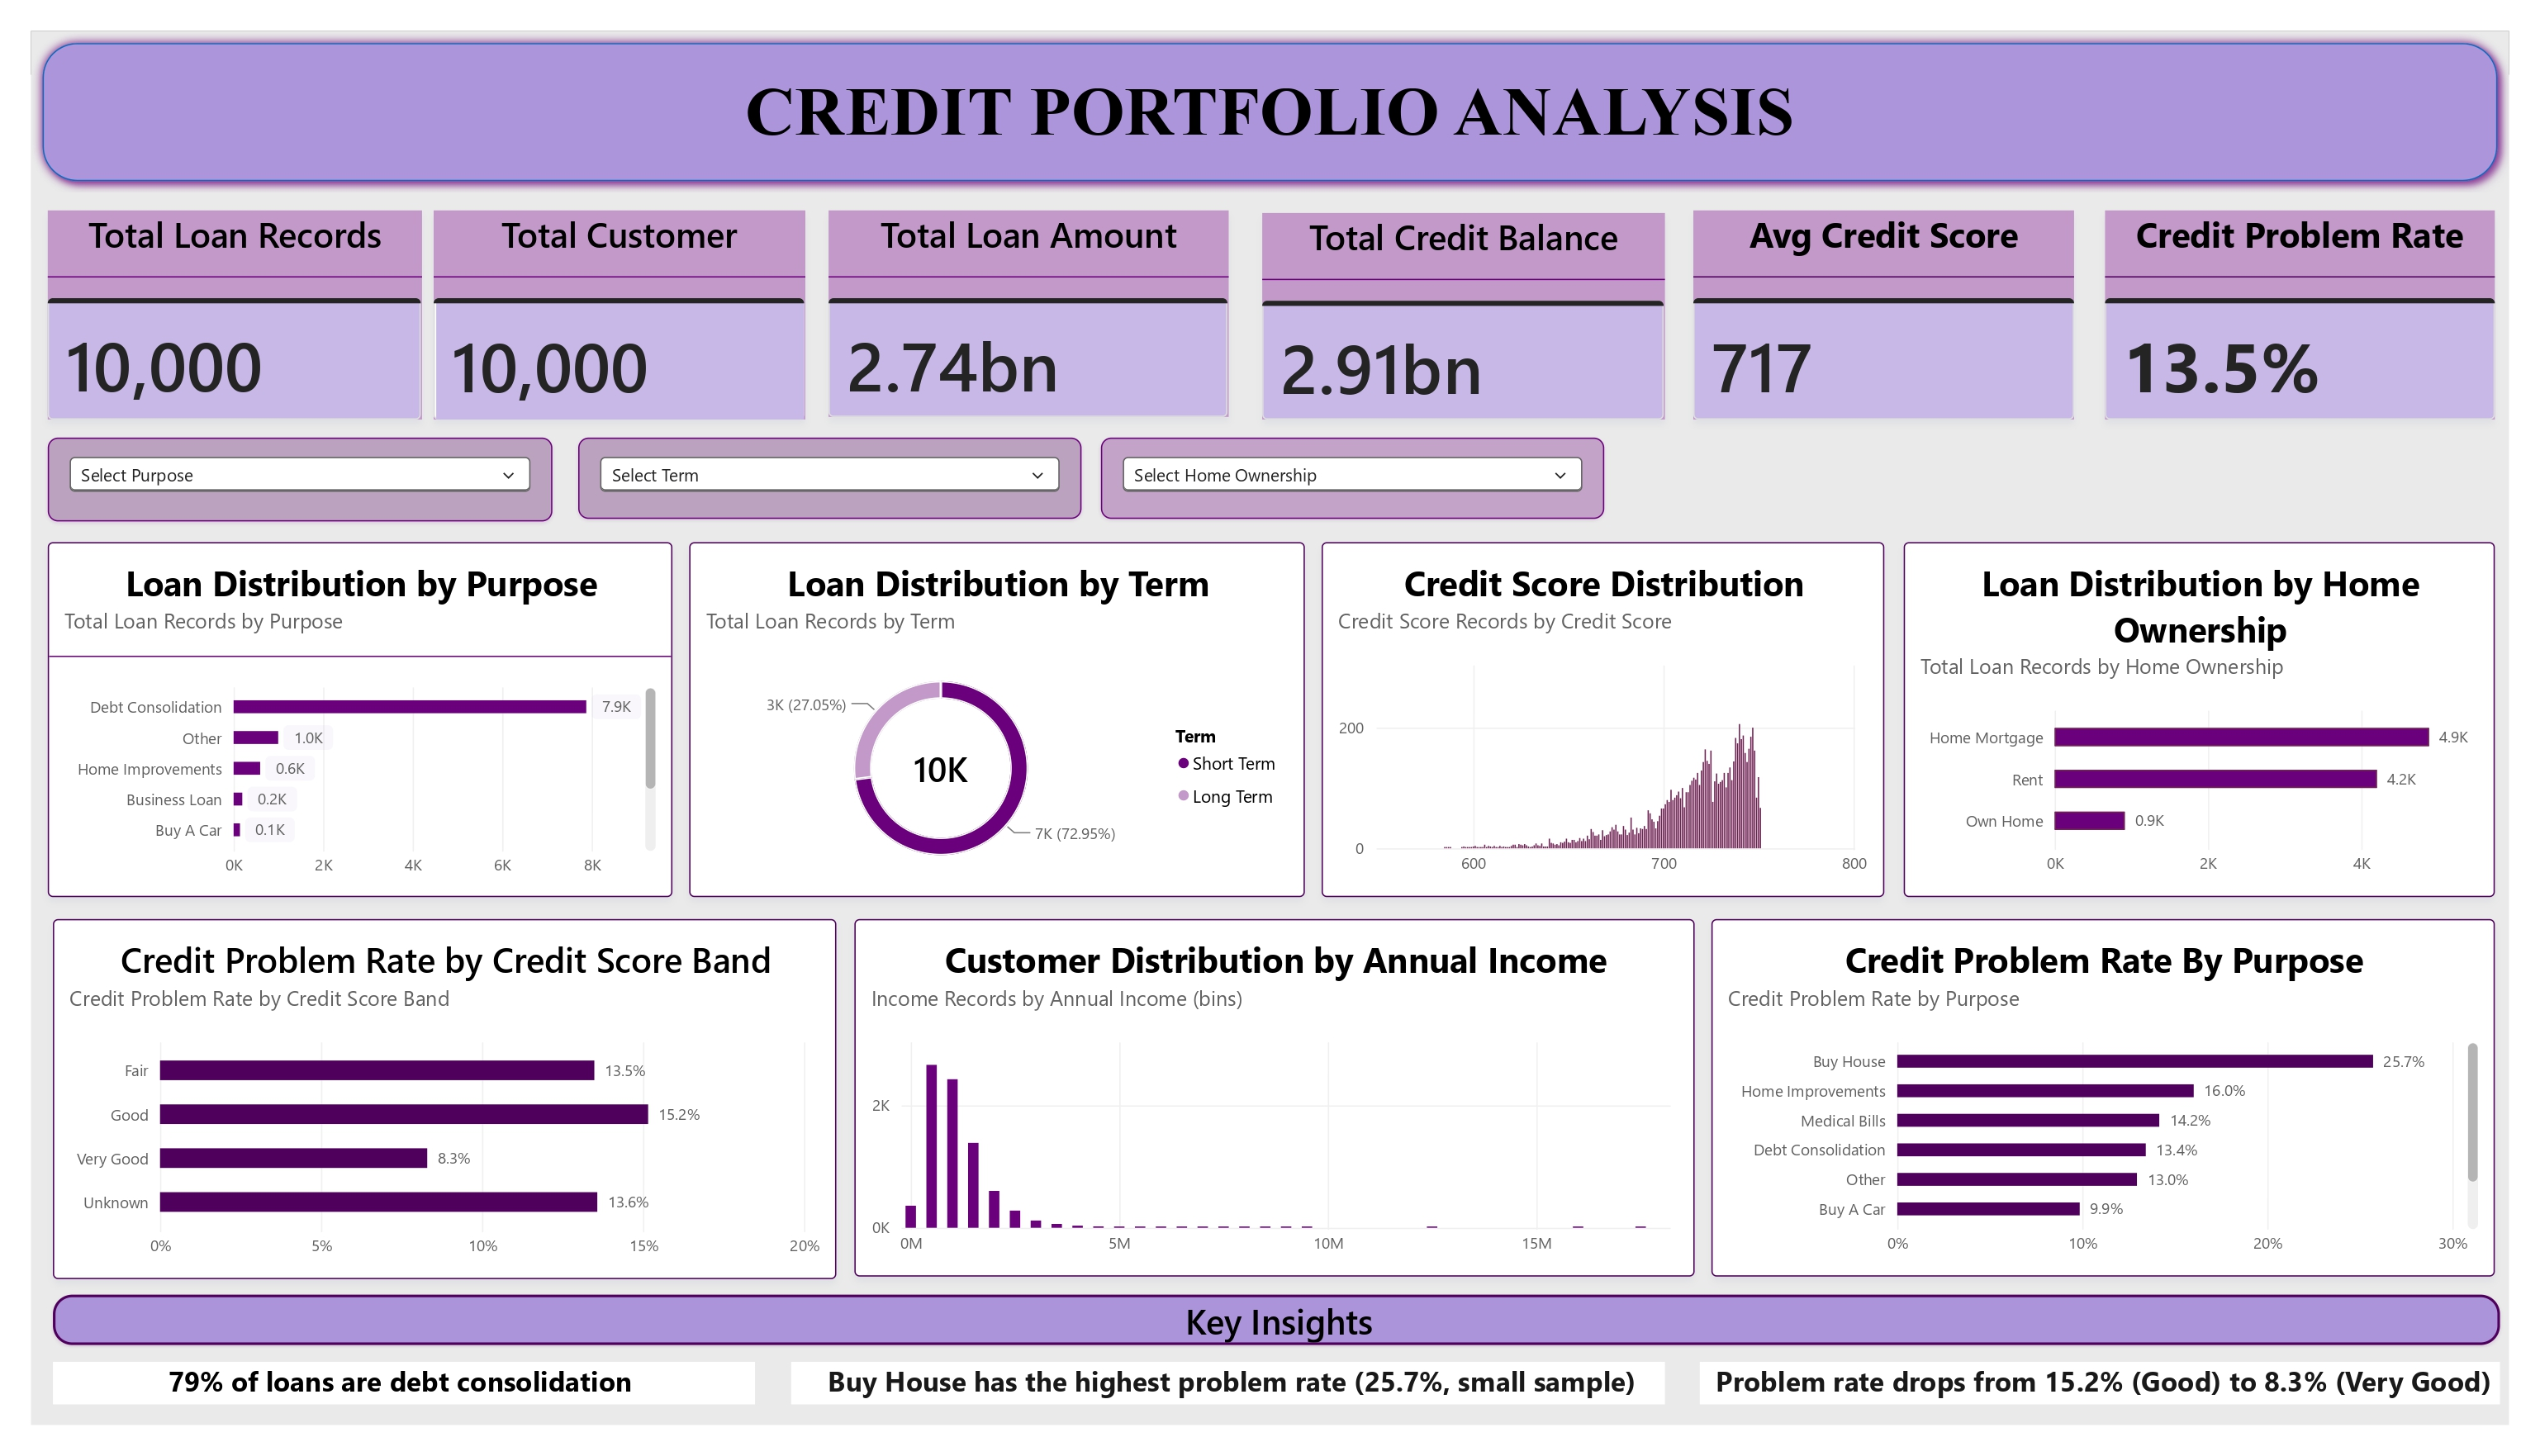

What the dashboard file says about the page in this screenshot:
{"tool":"powerbi","page":{"name":"Page 1","canvas":[1920,1080],"ordinal":0},"visuals":[{"type":"shape","box":[0,0,1920.5,124.7],"z":3000},{"type":"cardVisual","title":"Total Loan Records","fields":{"Data":["credit_test.Total Loan Records Display"]},"box":[12.8,139.4,289.8,161.4],"z":4000},{"type":"cardVisual","title":"Total Customer","fields":{"Data":["credit_test.Total Customers Display"]},"box":[311.8,139.4,288,161.4],"z":5000},{"type":"cardVisual","title":"Total Loan Amount","fields":{"Data":["credit_test.Total Loan Amount"]},"box":[618.1,139.4,310,159.6],"z":6000},{"type":"cardVisual","title":"Total Credit Balance","fields":{"Data":["credit_test.Total Credit Balance"]},"box":[953.8,141.2,311.8,159.6],"z":7000},{"type":"clusteredBarChart","title":"Loan Distribution by Purpose","fields":{"Category":["credit_test.Purpose"],"Y":["credit_test.Total Loan Records"]},"box":[12.8,396.2,484.2,275.1],"z":8000},{"type":"donutChart","title":"Loan Distribution by Term","fields":{"Category":["credit_test.Term"],"Y":["credit_test.Total Loan Records"]},"box":[509.9,396.2,476.9,275.1],"z":9000},{"type":"clusteredColumnChart","title":"Credit Score Distribution","fields":{"Category":["credit_test.Credit Score"],"Y":["credit_test.Credit Score Records"]},"box":[999.7,396.2,436.6,275.1],"z":10000},{"type":"clusteredBarChart","title":"Loan Distribution by Home Ownership","fields":{"Category":["credit_test.Home Ownership"],"Y":["credit_test.Total Loan Records"]},"box":[1450.9,396.2,458.6,275.1],"z":11000},{"type":"clusteredColumnChart","title":"Customer Distribution by Annual Income","fields":{"Category":["credit_test.Annual Income (bins)"],"Y":["credit_test.Income Records"]},"box":[638.3,687.8,651.2,277],"z":12000},{"type":"listSlicer","title":"Loan Term Filter","fields":{"Values":["credit_test.Term"]},"box":[423.7,315.5,390.7,62.4],"z":13000},{"type":"listSlicer","title":"Home Ownership Filter","fields":{"Values":["credit_test.Home Ownership"]},"box":[829.1,315.5,390,62.4],"z":14000},{"type":"listSlicer","title":"Loan Purpose Filter","fields":{"Values":["credit_test.Purpose"]},"box":[12.8,315.5,390.7,64.2],"z":15000},{"type":"clusteredBarChart","title":"Credit Problem Rate By Purpose","fields":{"Category":["credit_test.Purpose"],"Y":["credit_test.Credit Problem Rate"]},"box":[1302.3,687.8,607.1,277],"z":15003},{"type":"clusteredBarChart","title":"Credit Problem Rate by Credit Score Band","fields":{"Category":["credit_test.Credit Score Band"],"Y":["credit_test.Credit Problem Rate"]},"box":[16.5,687.8,607.1,278.8],"z":15004},{"type":"cardVisual","title":"Avg Credit Score","fields":{"Data":["credit_test.Avg Credit Score"]},"box":[1287.6,139.4,295.3,161.4],"z":15005},{"type":"cardVisual","title":"Credit Problem Rate","fields":{"Data":["credit_test.Credit Problem Rate"]},"box":[1606.8,139.4,302.7,161.4],"z":15006},{"type":"textbox","title":"Key Insights","box":[16.5,979.5,1896.6,38.5],"z":15007},{"type":"textbox","box":[100,100,300,300],"z":15008},{"type":"textbox","box":[16.5,1030.8,544.8,33],"z":15009},{"type":"textbox","box":[588.8,1030.8,676.8,33],"z":15010},{"type":"textbox","box":[1293.1,1030.8,620,33],"z":15012}]}

Visuals, with their boxes on the page's 1920x1080 design canvas (x1, y1, x2, y2). These are canvas units, not pixel positions in the 2540x1456 screenshot, which may show the page scaled, cropped or inside an application window:
shape: 0, 0, 1920, 125
"Total Loan Records" cardVisual: 13, 139, 303, 301
"Total Customer" cardVisual: 312, 139, 600, 301
"Total Loan Amount" cardVisual: 618, 139, 928, 299
"Total Credit Balance" cardVisual: 954, 141, 1266, 301
"Loan Distribution by Purpose" clusteredBarChart: 13, 396, 497, 671
"Loan Distribution by Term" donutChart: 510, 396, 987, 671
"Credit Score Distribution" clusteredColumnChart: 1000, 396, 1436, 671
"Loan Distribution by Home Ownership" clusteredBarChart: 1451, 396, 1910, 671
"Customer Distribution by Annual Income" clusteredColumnChart: 638, 688, 1290, 965
"Loan Term Filter" listSlicer: 424, 316, 814, 378
"Home Ownership Filter" listSlicer: 829, 316, 1219, 378
"Loan Purpose Filter" listSlicer: 13, 316, 404, 380
"Credit Problem Rate By Purpose" clusteredBarChart: 1302, 688, 1909, 965
"Credit Problem Rate by Credit Score Band" clusteredBarChart: 16, 688, 624, 967
"Avg Credit Score" cardVisual: 1288, 139, 1583, 301
"Credit Problem Rate" cardVisual: 1607, 139, 1910, 301
"Key Insights" textbox: 16, 980, 1913, 1018
textbox: 100, 100, 400, 400
textbox: 16, 1031, 561, 1064
textbox: 589, 1031, 1266, 1064
textbox: 1293, 1031, 1913, 1064
